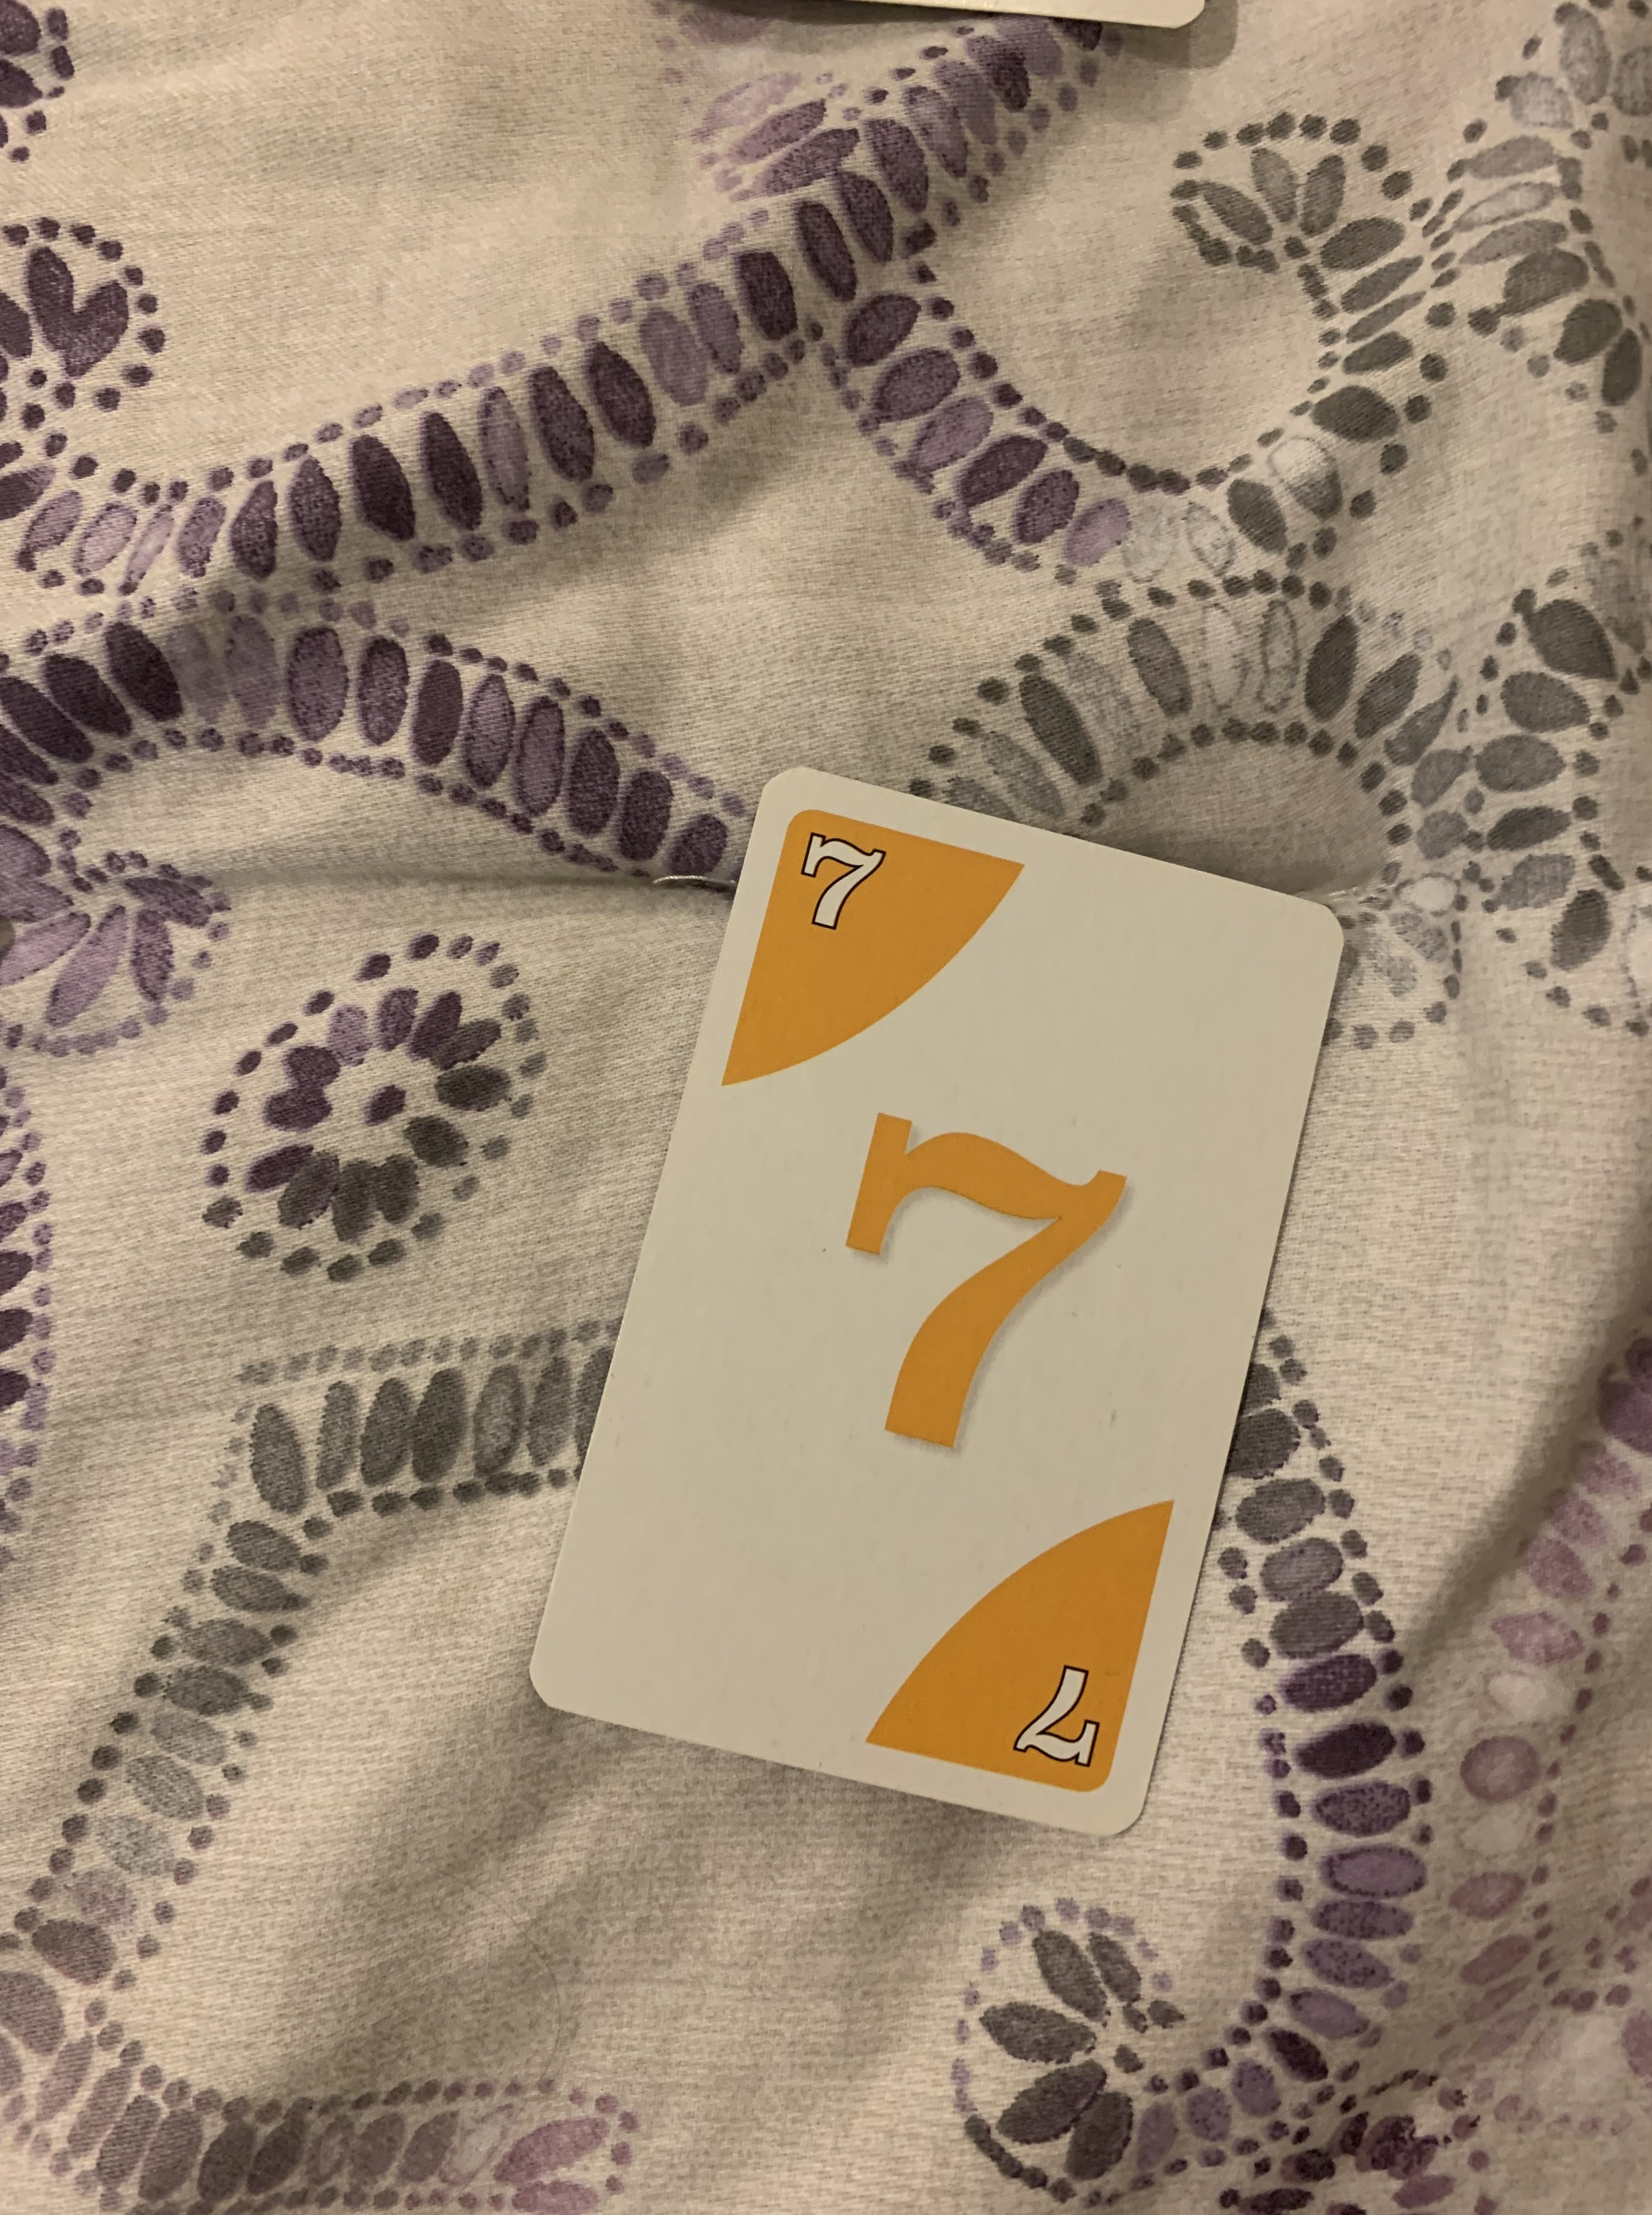seven: (526, 766, 1343, 1844)
